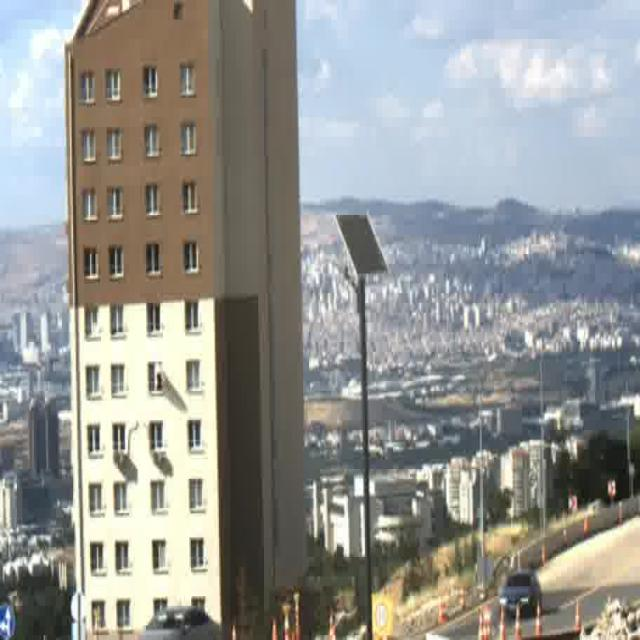Car: (136, 607, 222, 640), (499, 574, 541, 618)
